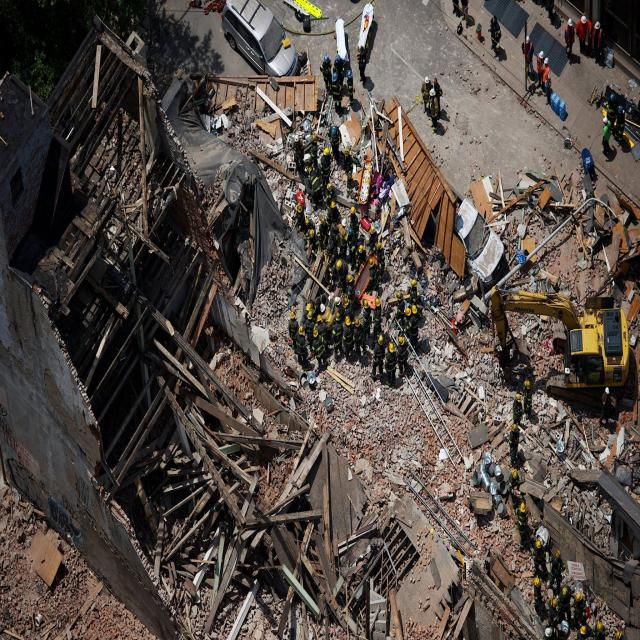collapsed_building: (11, 21, 288, 640)
